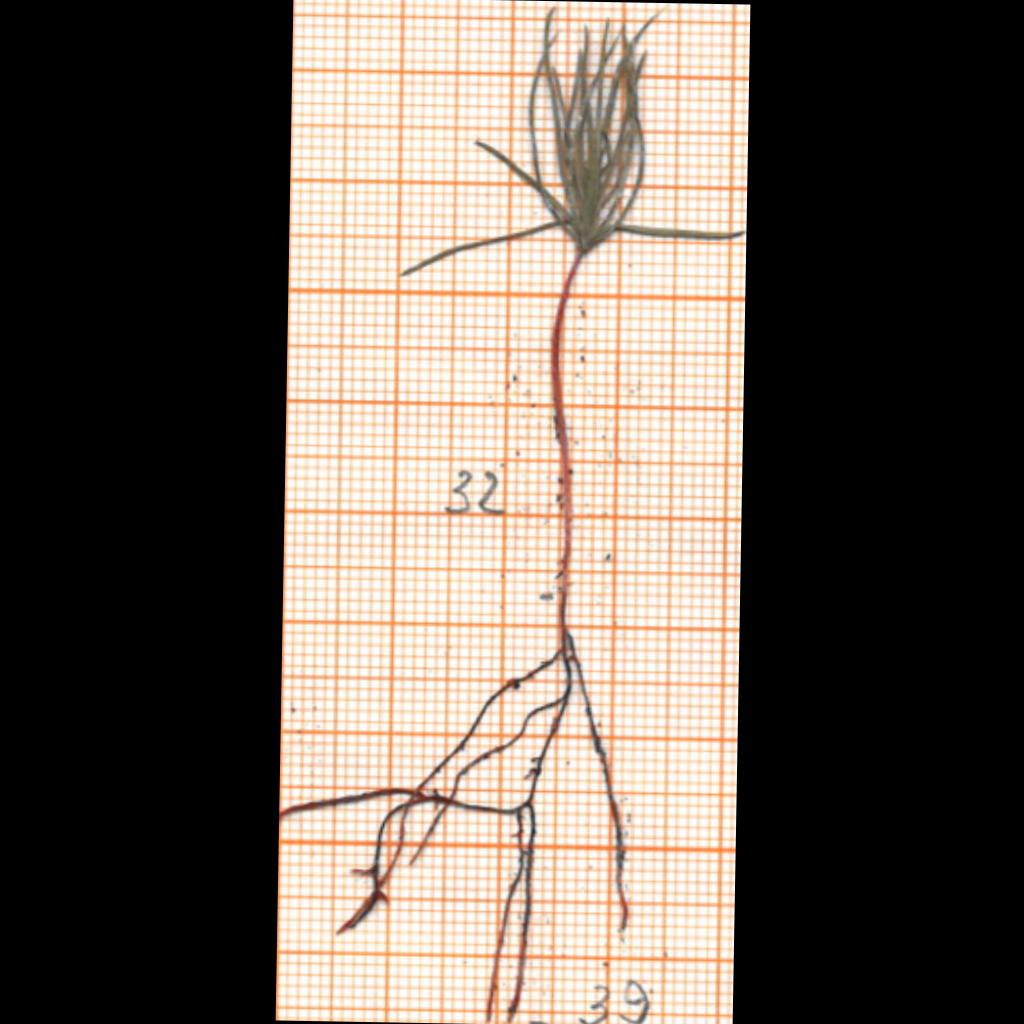flowerCedr: (477, 11, 732, 256)
rootCedr: (279, 603, 629, 1023)
stemCedr: (551, 253, 581, 595)
